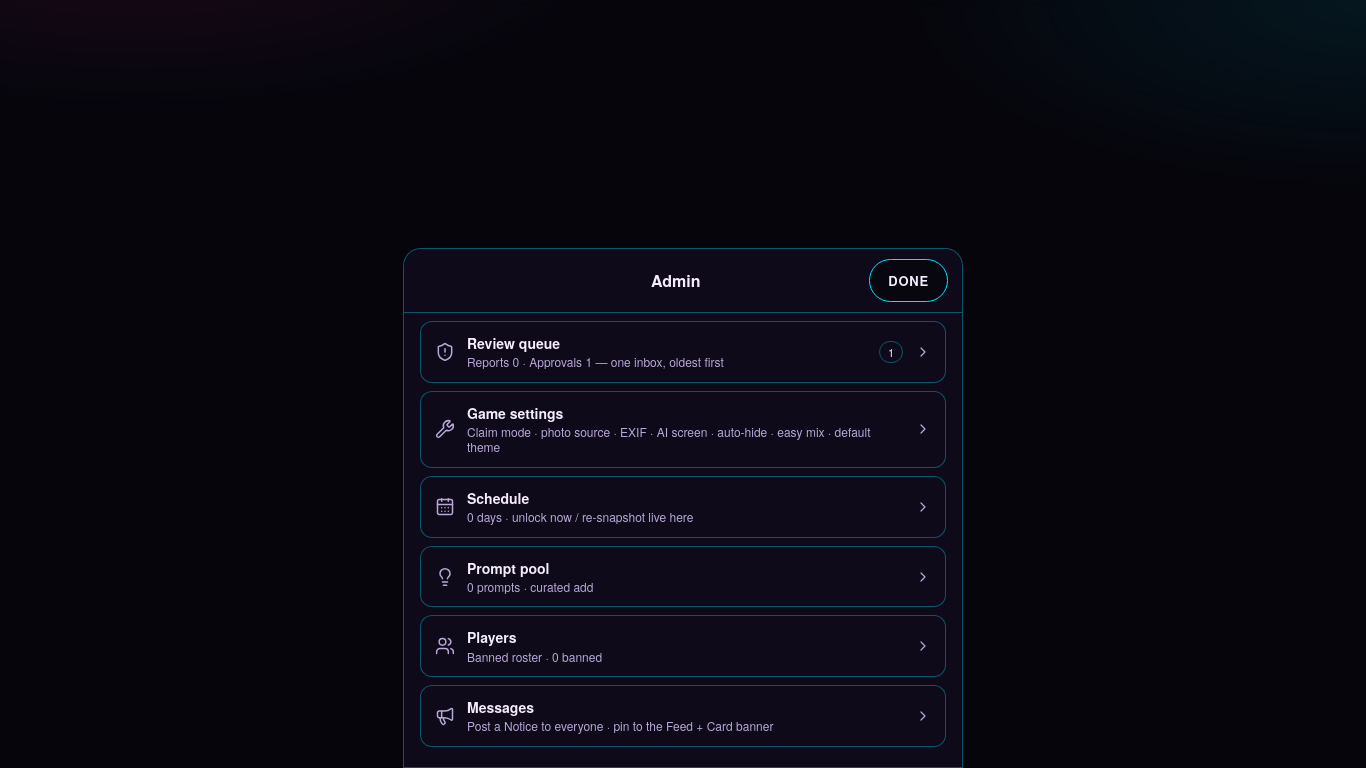
Admin Approvals group (specs/d15-approvals.md, re-housed in the Review queue) › is not on the hub; the hub card opens the Review queue where the pending row lists
Expected: the text "Awaiting review" is not shown
Step 1. Click the button "Review queue" → (683, 352), box [420, 321, 946, 382]
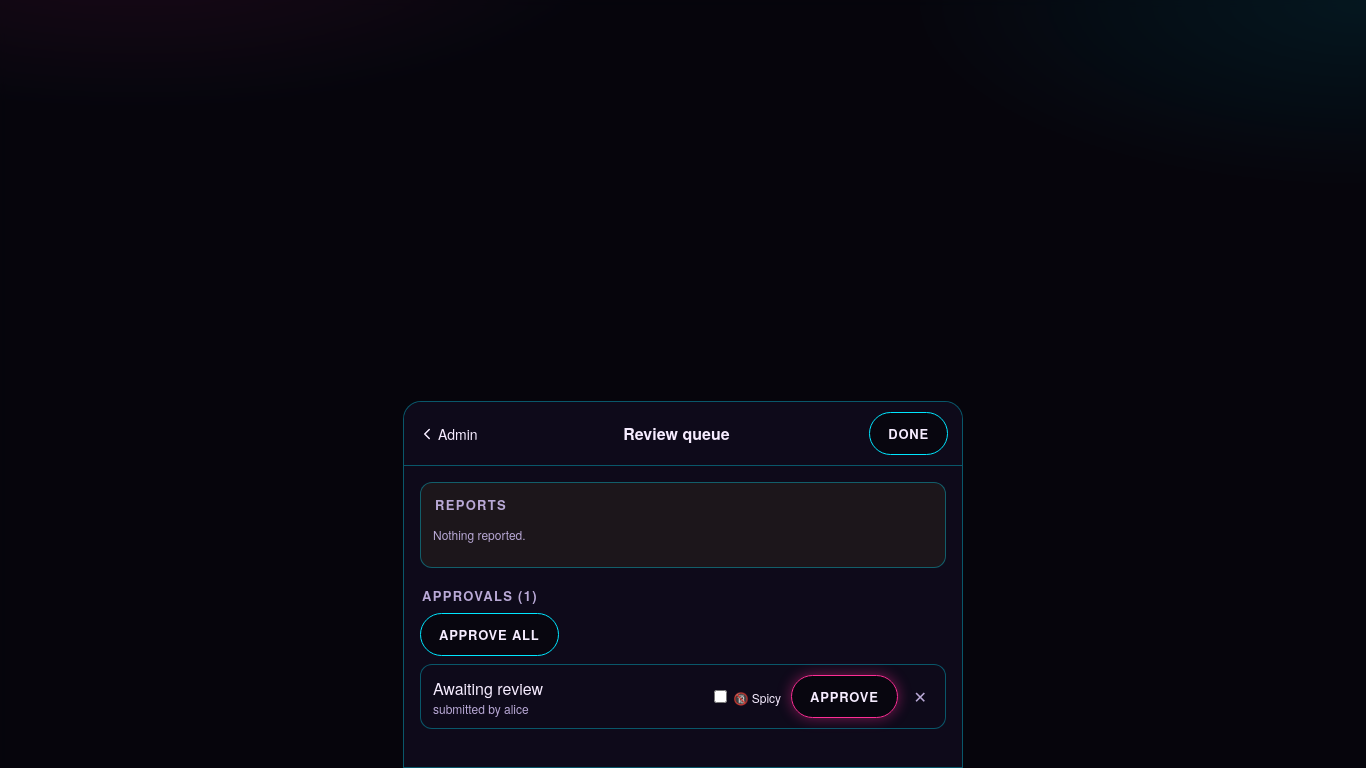
Expected: the text "Awaiting review" is shown, [433, 676, 543, 700]
